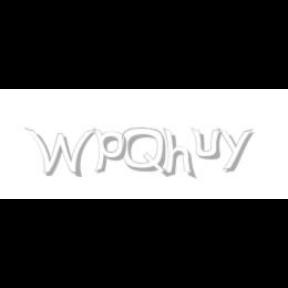Q: (122, 128, 168, 178)
W: (24, 128, 96, 178)
h: (164, 128, 198, 180)
p: (94, 128, 130, 174)
u: (190, 128, 225, 160)
y: (217, 128, 257, 172)
